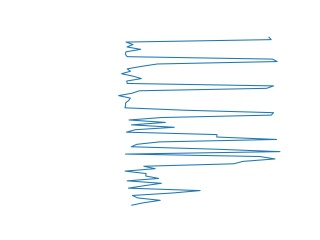crevasseRiverChannelBar: (118, 160, 265, 206)
majorRiverBedLagDeposit: (120, 120, 286, 163)
majorRiverChannelBar: (116, 34, 280, 119)
